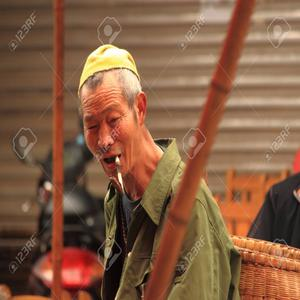cigarette: (114, 153, 124, 191)
